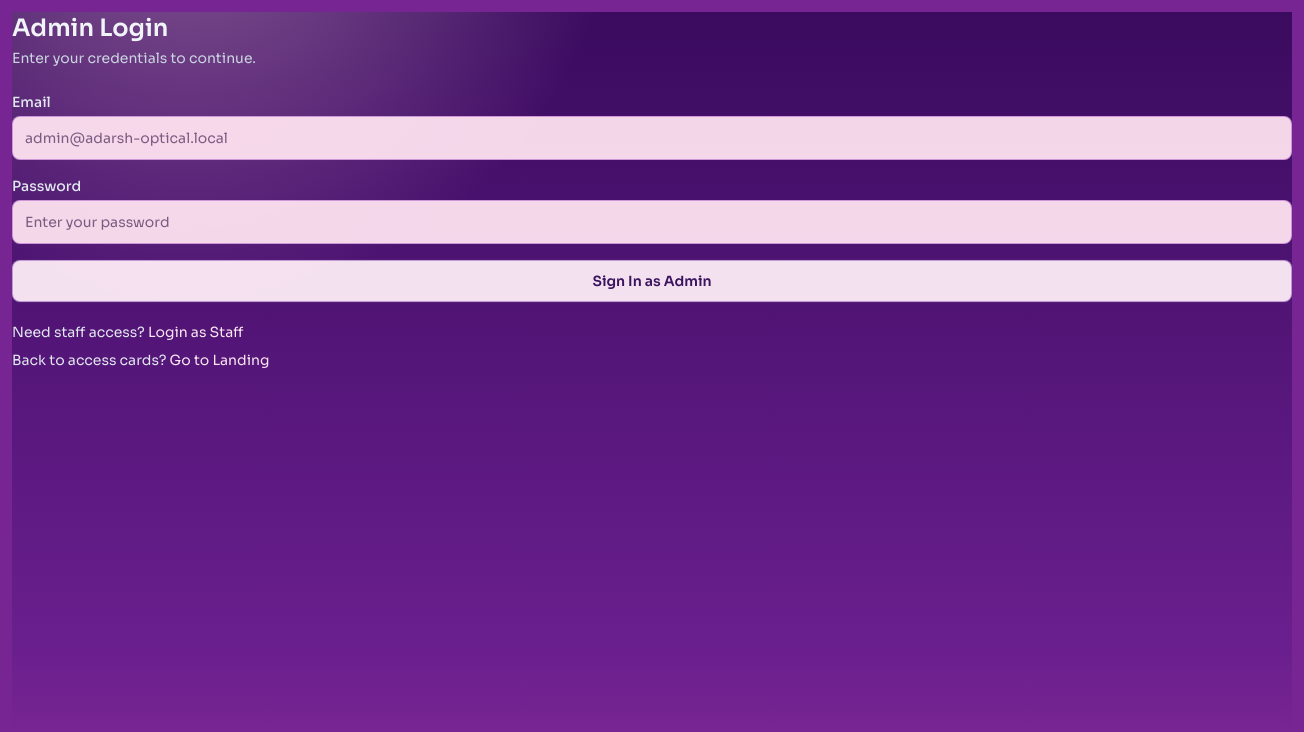
it: LoginPage › shows validation errors and does not submit invalid credentials
The width and height of the screenshot is (1304, 732).
Click the button "Sign In as Admin". click: (652, 281)
box: 12,260 -> 1292,302
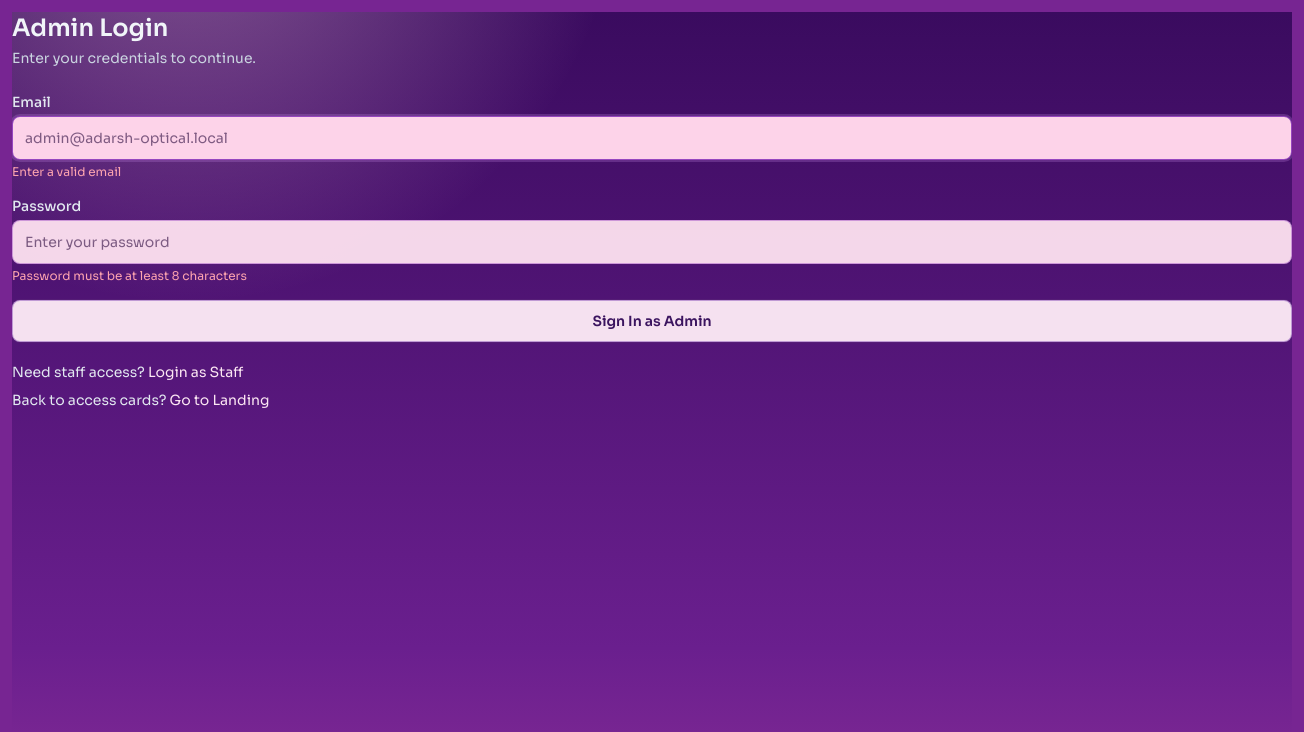
Check: the text "Enter a valid email" is shown, box 12,164 -> 121,179
Check: the text "Password must be at least 8 characters" is shown, box 12,268 -> 247,283
